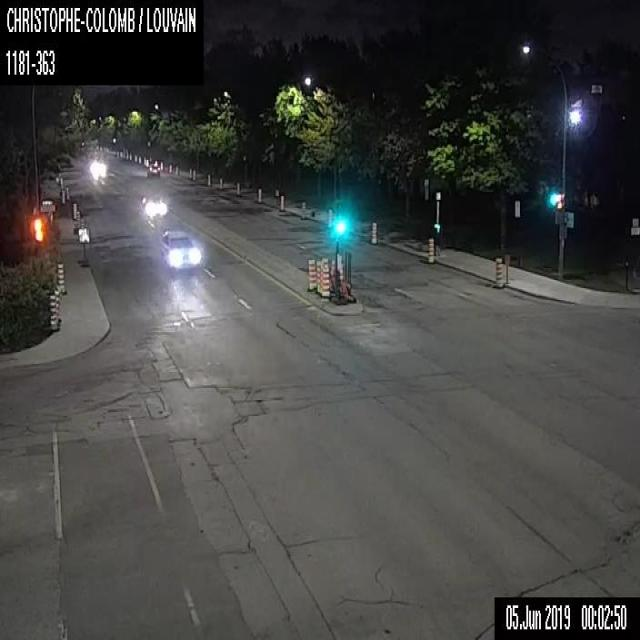construction: (48, 262, 66, 330), (77, 226, 90, 266), (320, 262, 330, 298), (306, 256, 316, 290), (320, 255, 328, 293), (492, 256, 502, 285), (314, 260, 322, 294), (503, 252, 510, 283), (369, 220, 377, 244), (426, 238, 434, 262), (326, 207, 333, 228), (278, 193, 285, 211), (300, 202, 306, 218), (72, 201, 77, 219), (256, 187, 262, 202), (75, 210, 80, 226), (235, 181, 240, 195), (218, 176, 222, 189), (206, 173, 210, 186), (188, 167, 192, 179), (65, 186, 68, 200), (61, 190, 64, 203), (168, 163, 172, 172), (128, 151, 132, 160), (80, 217, 84, 226), (192, 169, 195, 180), (175, 164, 178, 175), (143, 155, 146, 164), (145, 158, 148, 166), (160, 160, 162, 170), (154, 159, 157, 165), (134, 153, 136, 162), (138, 154, 140, 162)
vehicle: (158, 228, 201, 269), (136, 191, 165, 216), (146, 162, 160, 178)
